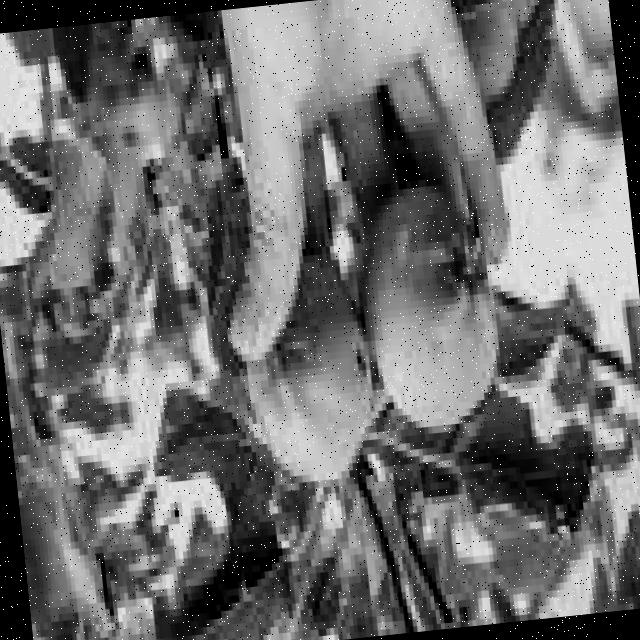Unripe: (352, 178, 503, 432)
